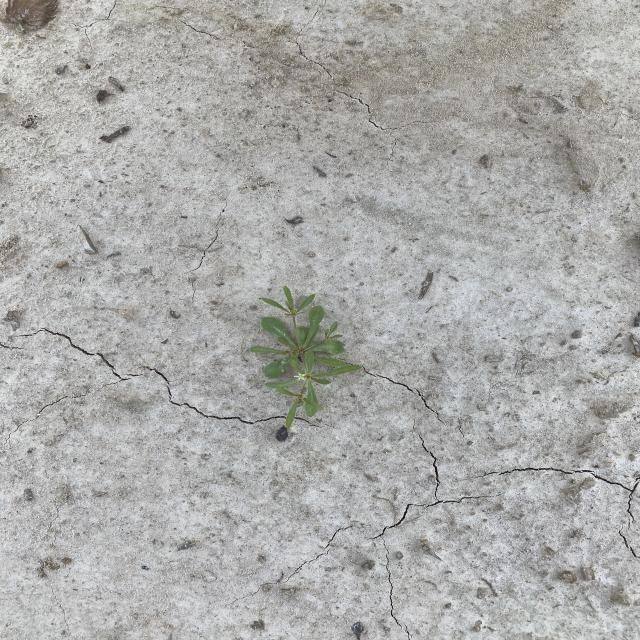Carpetweed: (247, 284, 366, 432)
